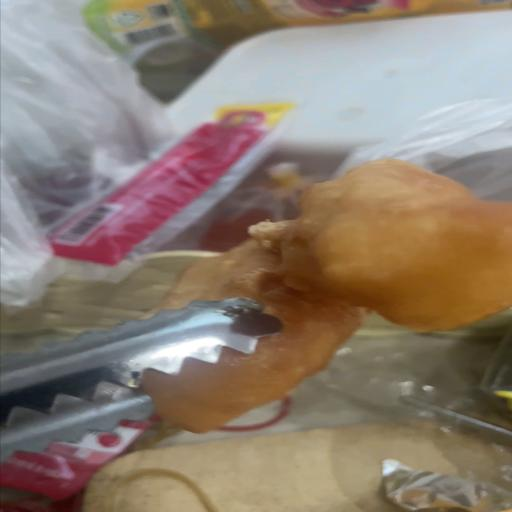street_golden_defect: (145, 160, 510, 434)
